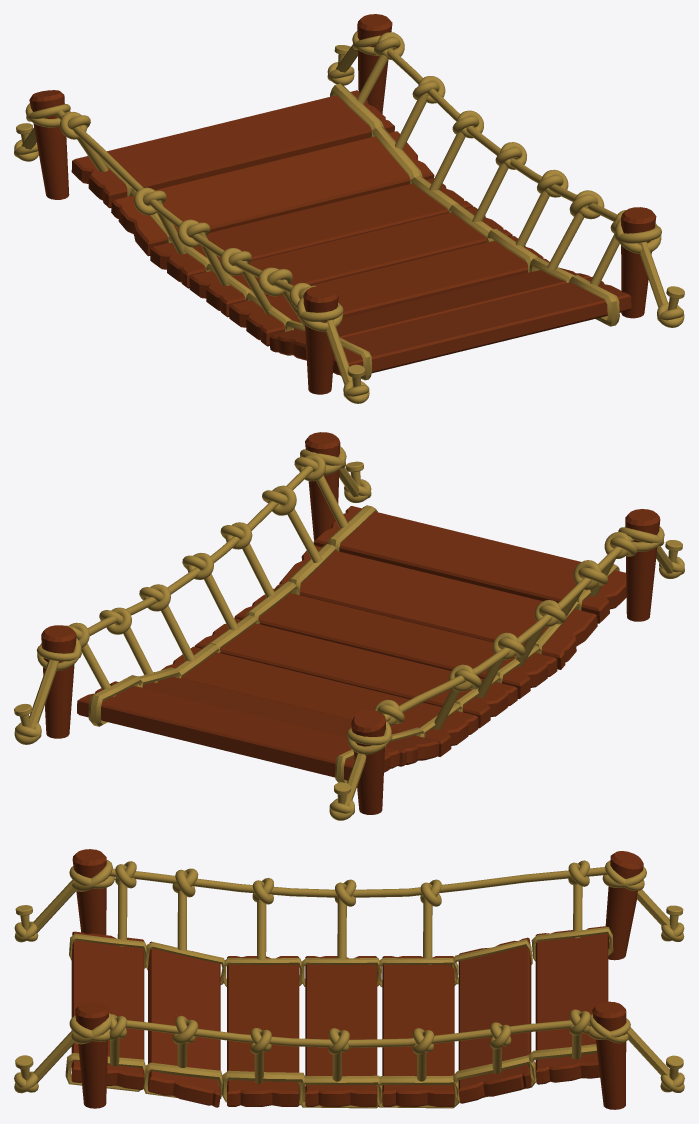
File: F_SwingBridge 1.fbx
3 renders of one model, top to bottom at view 1: azimuth 30°, elevation 25°; view 2: azimuth 150°, elevation 25°; view 3: azimuth 270°, elevation 25°, orthographic. The views are drawn at different scales.
Parts seen in each view (by area): view 1: Line053; view 2: Line053; view 3: Line053.
Boxes of the visible parts, x1,y1,x2,y2 form: Line053: (14, 14, 684, 403); Line053: (14, 432, 684, 820); Line053: (14, 849, 684, 1109).
Bounding box in the file's own units: 352 × 113 × 580.
